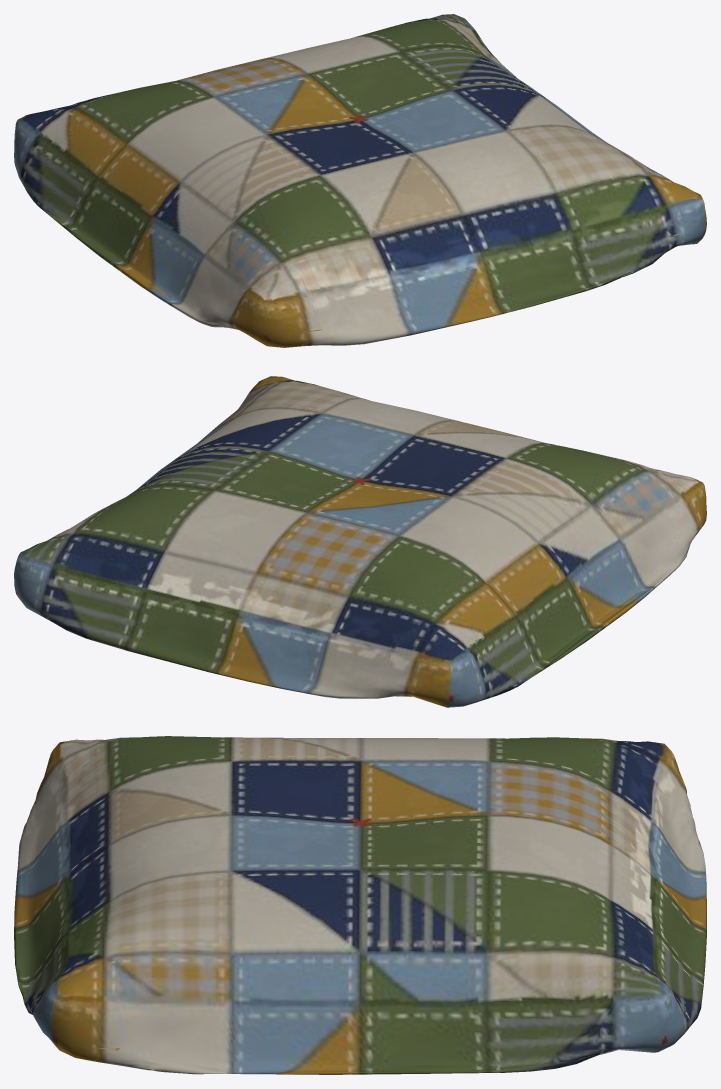
File: zabuton_patch.glb
The picture shows the model from 3 angles, top to bottom: view 1: azimuth 30°, elevation 25°; view 2: azimuth 150°, elevation 25°; view 3: azimuth 270°, elevation 25°; orthographic projection. The views are drawn at different scales.
Visible parts, largest first — view 1: prop_zabuton_patch_felt; view 2: prop_zabuton_patch_felt; view 3: prop_zabuton_patch_felt.
Part boxes in pixels (left/top/right/bottom): prop_zabuton_patch_felt: left=14, top=14, right=706, bottom=347; prop_zabuton_patch_felt: left=14, top=376, right=706, bottom=707; prop_zabuton_patch_felt: left=14, top=736, right=706, bottom=1074.
Bounding box in the file's own units: 1.16 × 0.2226 × 1.18.
1 material, 1 textured.
